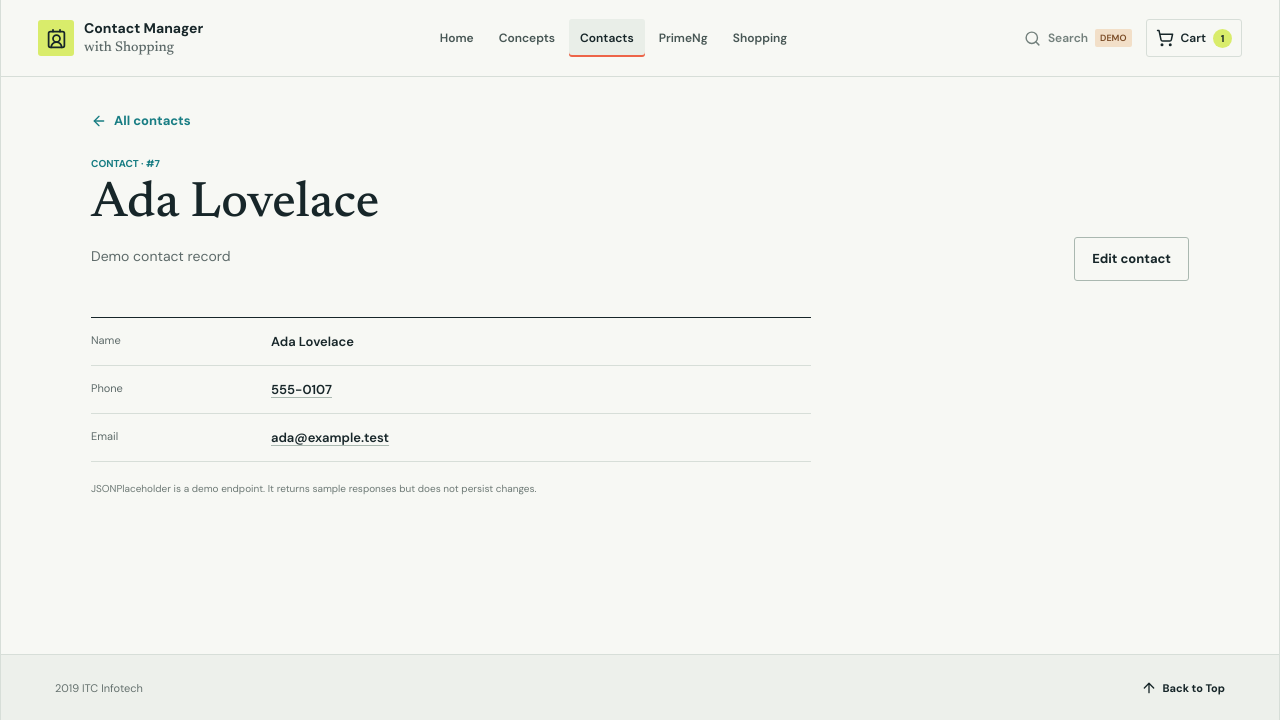
application routes and shared flows › loads and updates all contact fields from the demo response
Click the button "Edit contact" at (1132,259), box [1074, 237, 1189, 281]
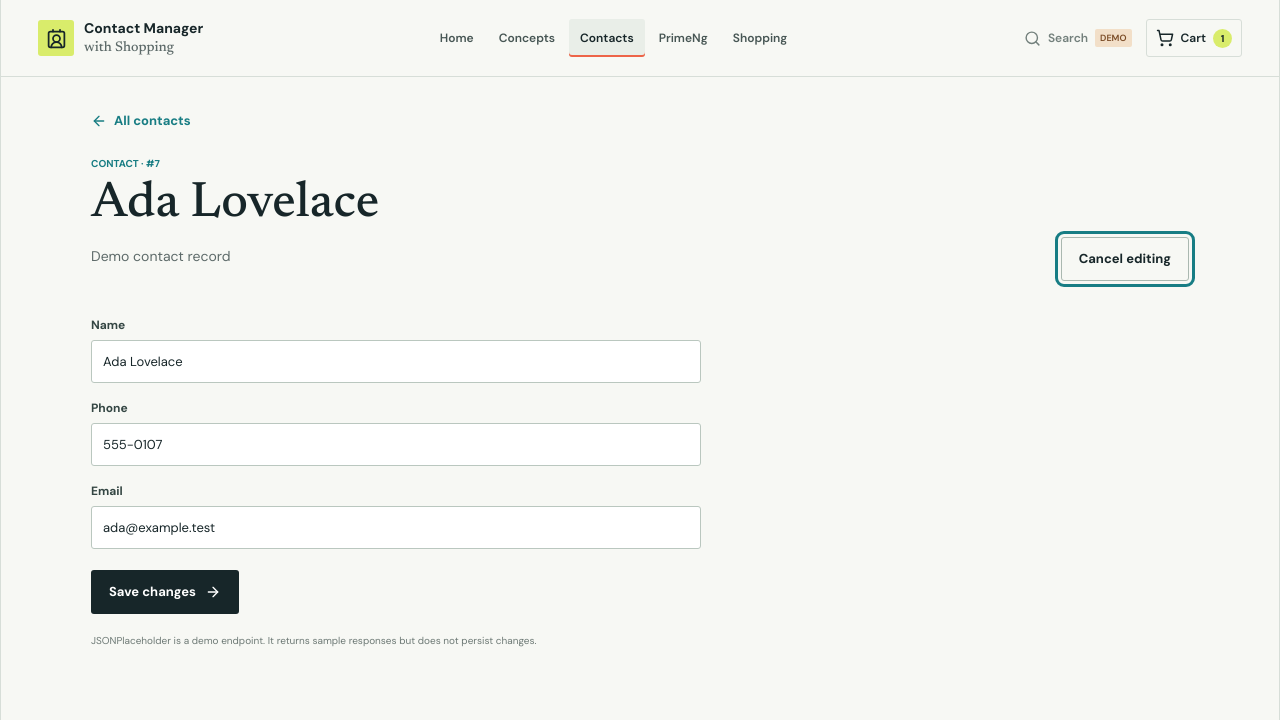
Replace the text in the field labelled "Phone" with "555-0199" at (396,444), box [91, 423, 701, 466]
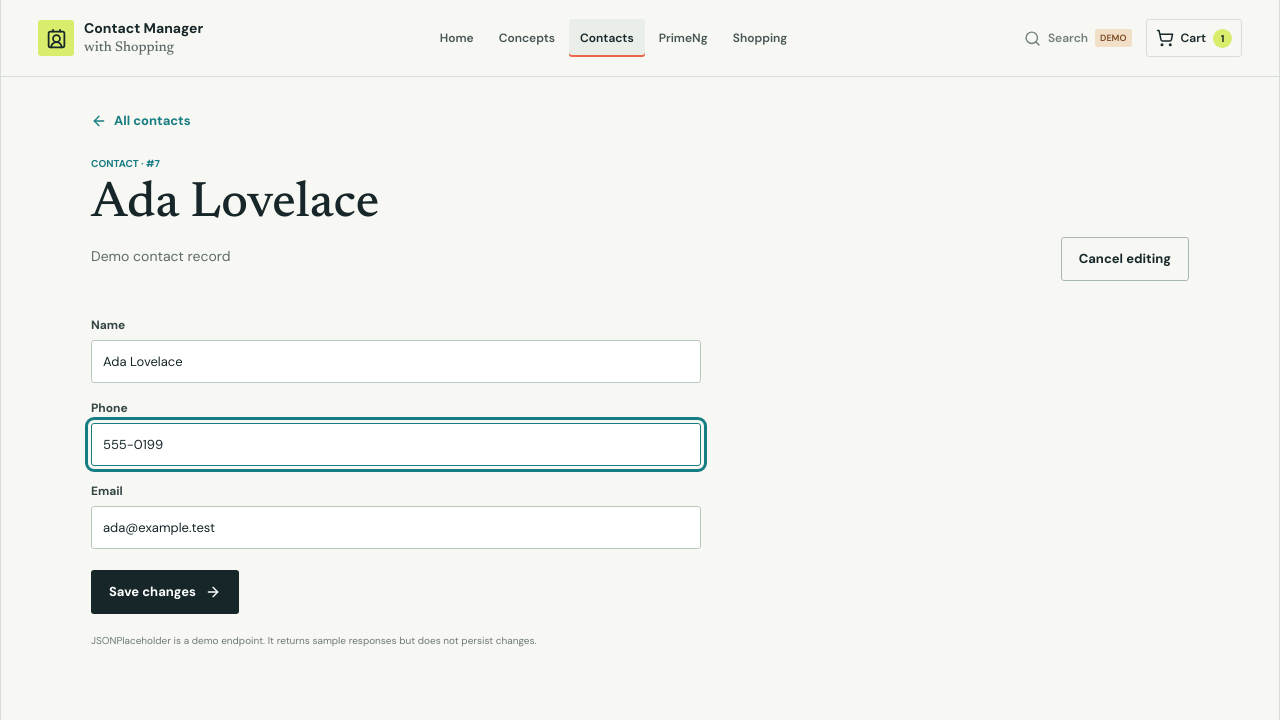
Replace the text in the field labelled "Email" with "ada.updated@example.test" at (396,527), box [91, 506, 701, 549]
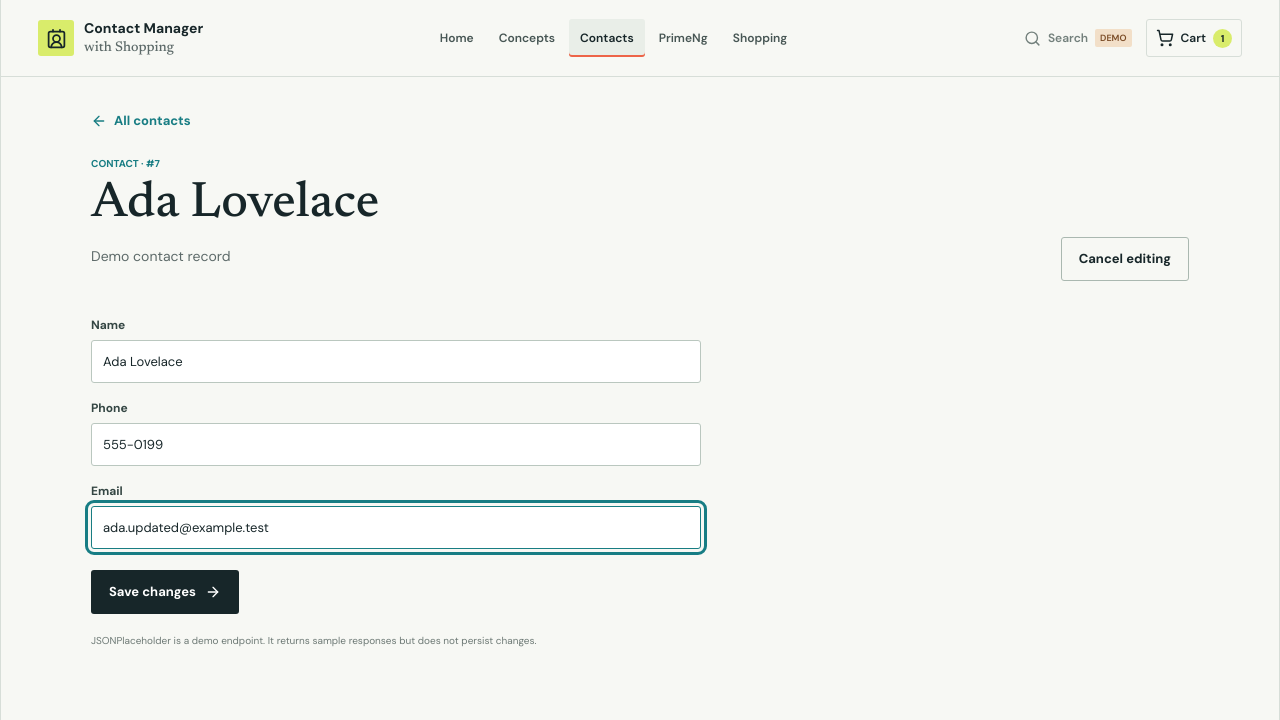
Click the button "Save changes" at (165,592), box [91, 570, 239, 614]
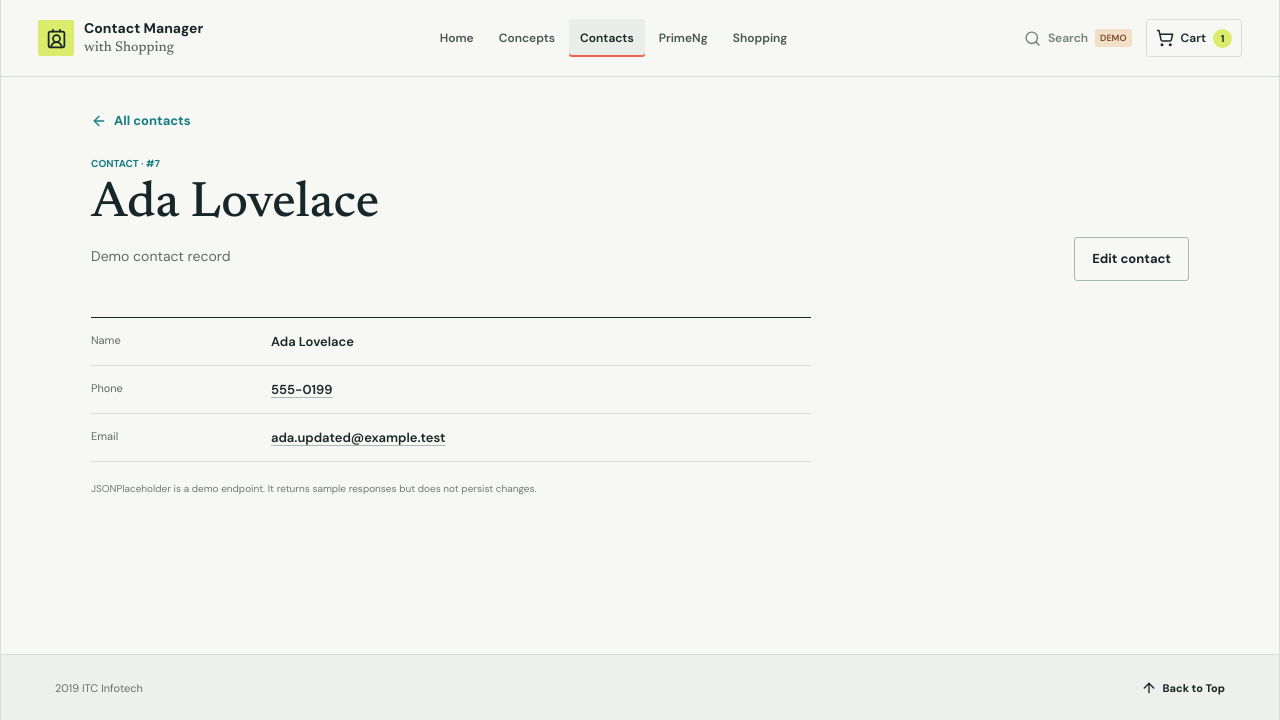
expect the link "555-0199" is shown: met, box [271, 381, 332, 398]
expect the link "ada.updated@example.test" is shown: met, box [271, 429, 446, 446]
